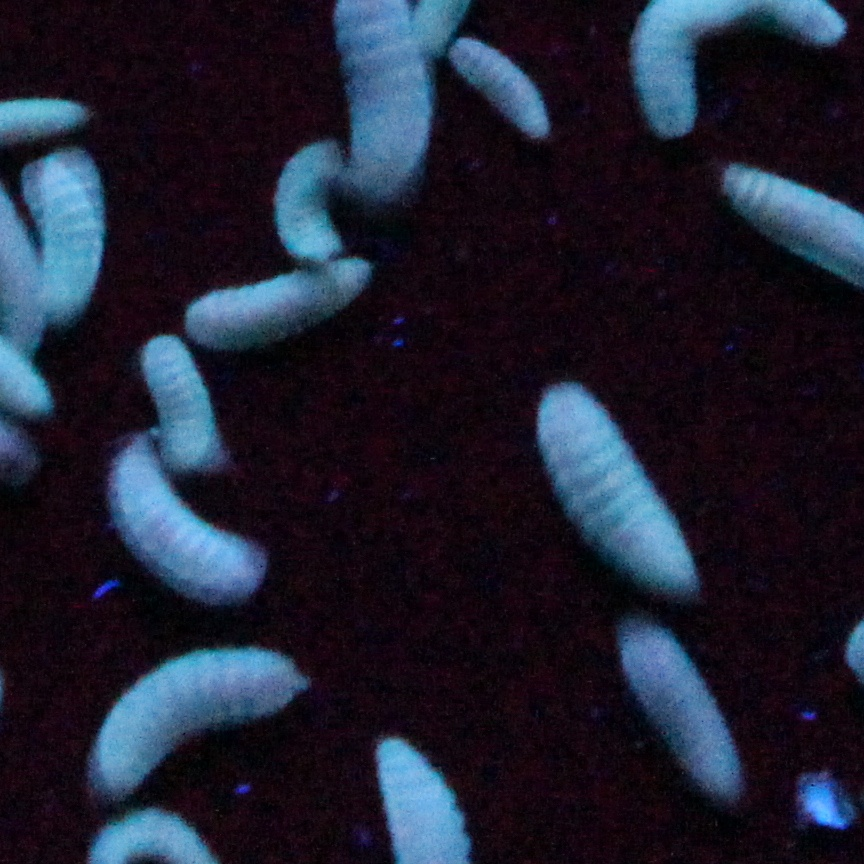larve: (531, 381, 696, 595), (92, 648, 306, 791), (615, 617, 735, 796), (110, 462, 261, 595), (186, 252, 381, 342), (33, 170, 112, 319), (141, 327, 220, 470), (446, 41, 548, 136), (269, 146, 339, 266)
